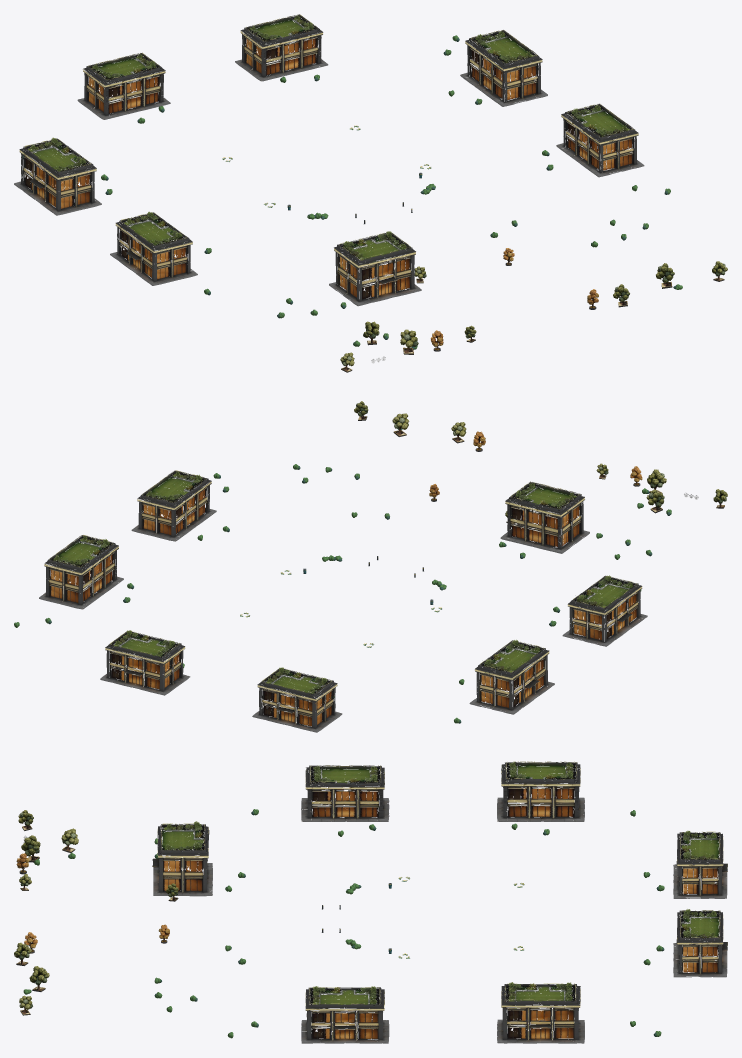
File: nexus-street-detail.glb
3 views of the same model, one above another, from view 1: azimuth 30°, elevation 25°; view 2: azimuth 150°, elevation 25°; view 3: azimuth 270°, elevation 25° (orthographic). The views are drawn at different scales.
Visible parts, largest first — view 1: HI3D | Garden Roof Retail.001, HI3D | Garden Roof Retail.004, HI3D | Garden Roof Retail.007, HI3D | Garden Roof Retail.003, HI3D | Garden Roof Retail.006, HI3D | Garden Roof Retail.002, HI3D | Garden Roof Retail.005, NEXCIV detail; view 2: HI3D | Garden Roof Retail.001, HI3D | Garden Roof Retail.007, HI3D | Garden Roof Retail.004, HI3D | Garden Roof Retail.006, HI3D | Garden Roof Retail.003, HI3D | Garden Roof Retail.005, HI3D | Garden Roof Retail.002, NEXCIV detail; view 3: HI3D | Garden Roof Retail.007, HI3D | Garden Roof Retail.004, HI3D | Garden Roof Retail.005, HI3D | Garden Roof Retail.002, HI3D | Garden Roof Retail.001, HI3D | Garden Roof Retail.006, HI3D | Garden Roof Retail.003, NEXCIV detail.
Part boxes in pixels (x1,y1,x2,y2): HI3D | Garden Roof Retail.001: (329,231,421,306); HI3D | Garden Roof Retail.004: (14,137,101,215); HI3D | Garden Roof Retail.007: (460,30,547,106); HI3D | Garden Roof Retail.003: (77,52,170,119); HI3D | Garden Roof Retail.006: (235,14,328,81); HI3D | Garden Roof Retail.002: (110,211,197,285); HI3D | Garden Roof Retail.005: (556,103,644,177); NEXCIV detail: (21,35,682,349); HI3D | Garden Roof Retail.001: (500,481,589,553); HI3D | Garden Roof Retail.007: (39,535,123,609); HI3D | Garden Roof Retail.004: (469,639,554,714); HI3D | Garden Roof Retail.006: (100,630,190,695); HI3D | Garden Roof Retail.003: (252,667,342,732); HI3D | Garden Roof Retail.005: (131,470,216,541); HI3D | Garden Roof Retail.002: (562,575,647,646); NEXCIV detail: (14,428,671,723); HI3D | Garden Roof Retail.007: (497,982,584,1043); HI3D | Garden Roof Retail.004: (497,761,584,821); HI3D | Garden Roof Retail.005: (301,986,389,1043); HI3D | Garden Roof Retail.002: (301,765,389,821); HI3D | Garden Roof Retail.001: (152,821,212,896); HI3D | Garden Roof Retail.006: (673,909,727,977); HI3D | Garden Roof Retail.003: (673,830,727,898); NEXCIV detail: (23,809,664,1038).
Bounding box in the file's own units: 113 × 10.54 × 139.
12 materials, 3 textured.
